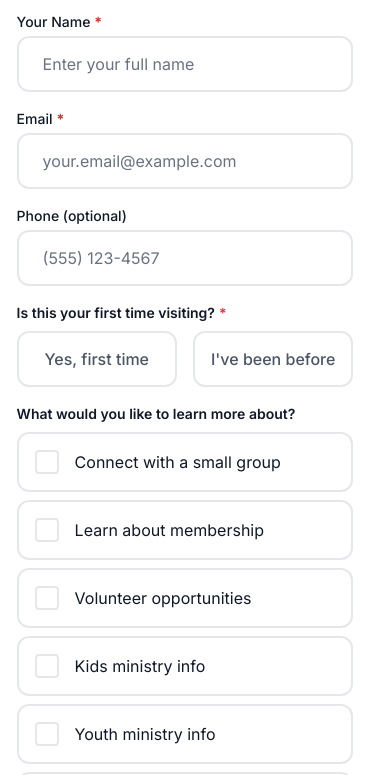
Test: VisitorForm › Name/Email Validation (US1) › shows validation error for invalid email format
Type "John Doe" into the field labelled "Your Name *".
click(185, 64); type("John Doe")  # box [17, 36, 353, 92]
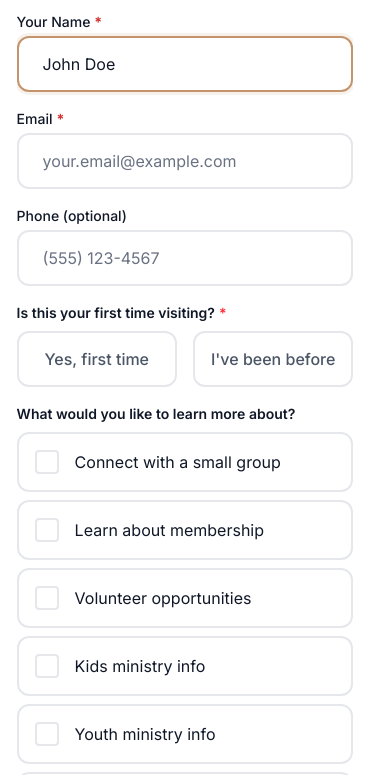
Type "invalid-email" into the field labelled "Email *".
click(185, 161); type("invalid-email")  # box [17, 133, 353, 189]
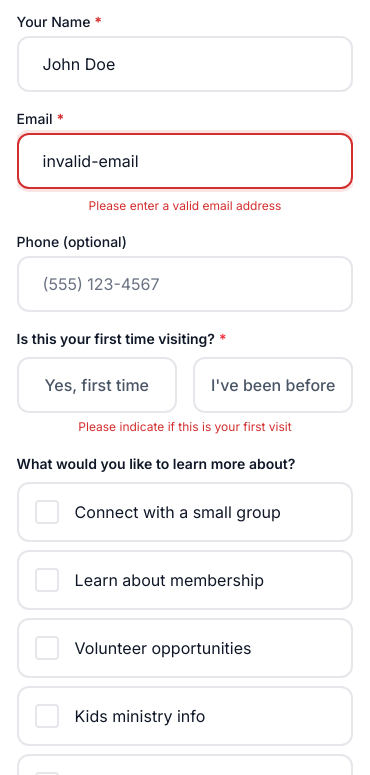
Result: the text "Please enter a valid email address" is shown at [89, 198, 281, 213]
